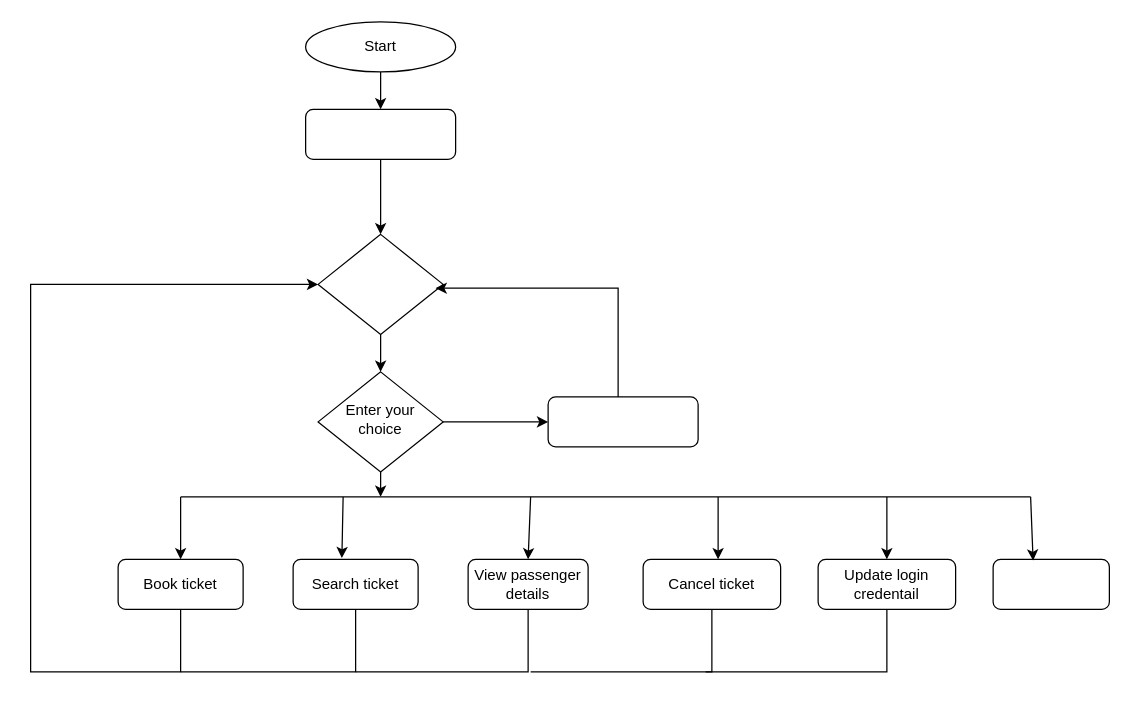
Some shapes in this 1131 by 704 pixel diagram are drawn without their labels. The shapes that lost their labels are listed below. From the top down, each one's box as (x1, y1, x2, y2) in pixels, then its label:
(304, 108, 456, 159): Login Details
(317, 233, 443, 334): Menu
(547, 396, 698, 447): Wrong choice
(992, 558, 1109, 609): Exit
